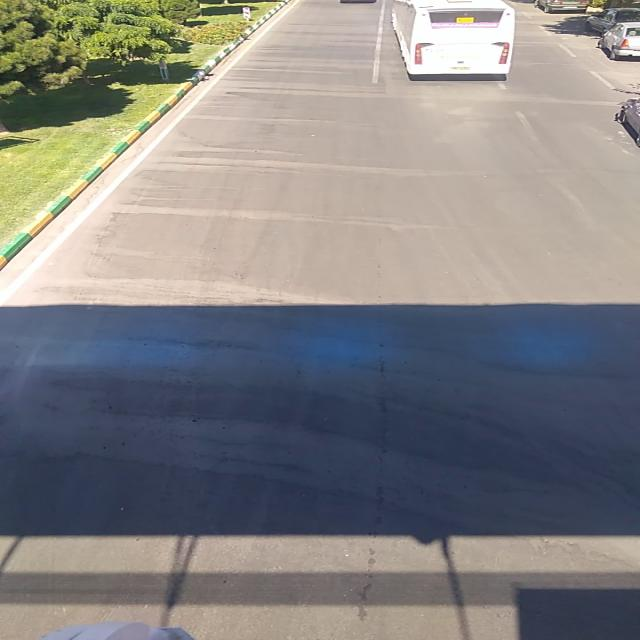bus: (391, 0, 515, 74)
car: (596, 23, 638, 61)
